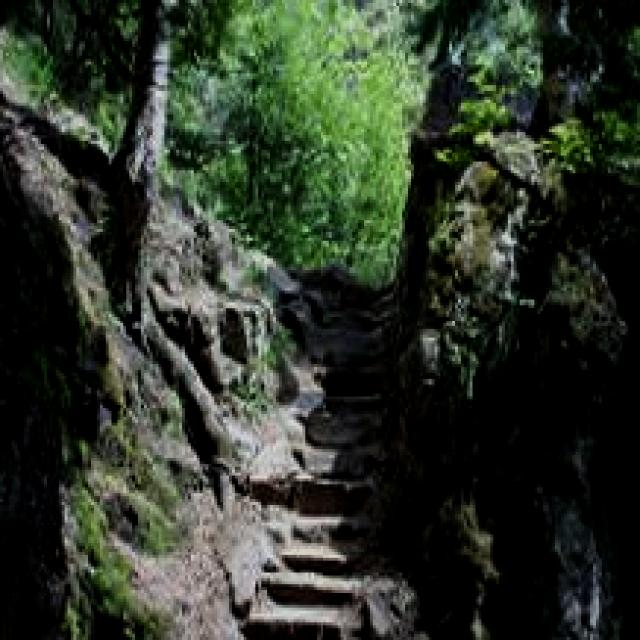upstair: (271, 315, 380, 638)
